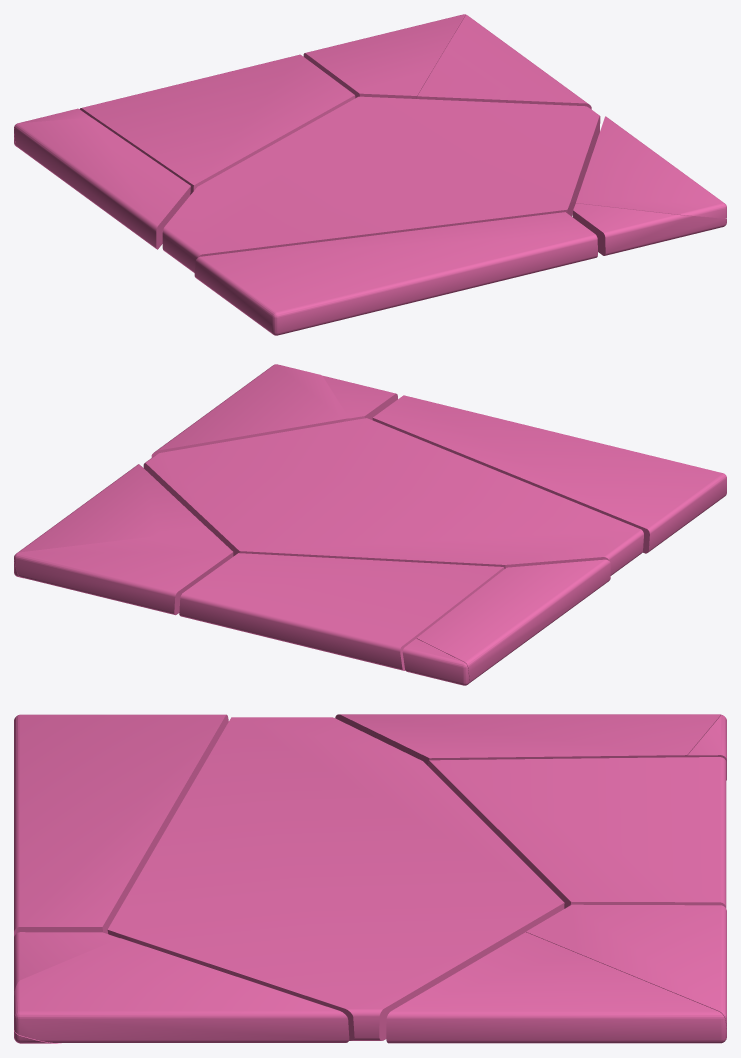
File: crack1.glb
3 renders of one model, top to bottom at view 1: azimuth 30°, elevation 25°; view 2: azimuth 150°, elevation 25°; view 3: azimuth 270°, elevation 25°, orthographic. The views are drawn at different scales.
Parts seen in each view (by area): view 1: platform_cell.005, platform_cell.001, platform_cell.008, platform_cell.006, platform_cell.007, platform_cell.003, platform_cell.004, platform_cell; view 2: platform_cell.005, platform_cell.008, platform_cell.001, platform_cell.004, platform_cell.006, platform_cell.007, platform_cell.003, platform_cell.002, platform_cell; view 3: platform_cell.005, platform_cell.008, platform_cell.001, platform_cell.003, platform_cell.007, platform_cell.006, platform_cell.004, platform_cell, platform_cell.002.
Part boxes in pixels (x1,y1,x2,y2): platform_cell.005: (162,96,600,272); platform_cell.001: (194,212,597,335); platform_cell.008: (79,54,355,194); platform_cell.006: (14,117,190,249); platform_cell.007: (576,116,726,218); platform_cell.003: (416,14,591,109); platform_cell.004: (303,14,465,98); platform_cell: (572,203,726,255); platform_cell.005: (143,418,643,575); platform_cell.008: (179,553,504,670); platform_cell.001: (372,395,726,553); platform_cell.004: (14,529,233,615); platform_cell.006: (416,559,610,682); platform_cell.007: (151,364,348,457); platform_cell.003: (14,464,208,578); platform_cell.002: (402,638,469,685); platform_cell: (322,375,397,421); platform_cell.005: (107,717,564,1040); platform_cell.008: (428,757,726,908); platform_cell.001: (14,714,228,936); platform_cell.003: (386,932,726,1043); platform_cell.007: (14,938,349,1042); platform_cell.006: (335,714,721,765); platform_cell.004: (526,904,726,1028); platform_cell: (14,932,119,1043); platform_cell.002: (687,715,726,780).
Bounding box in the file's own units: 19.8 × 0.9867 × 19.8.
